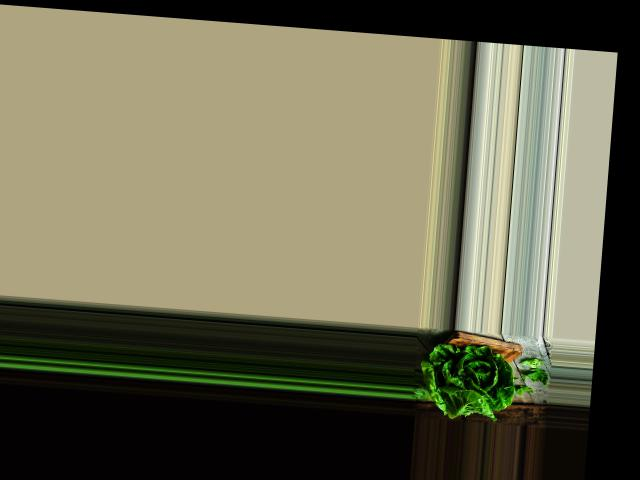lettuce: (415, 337, 513, 420)
